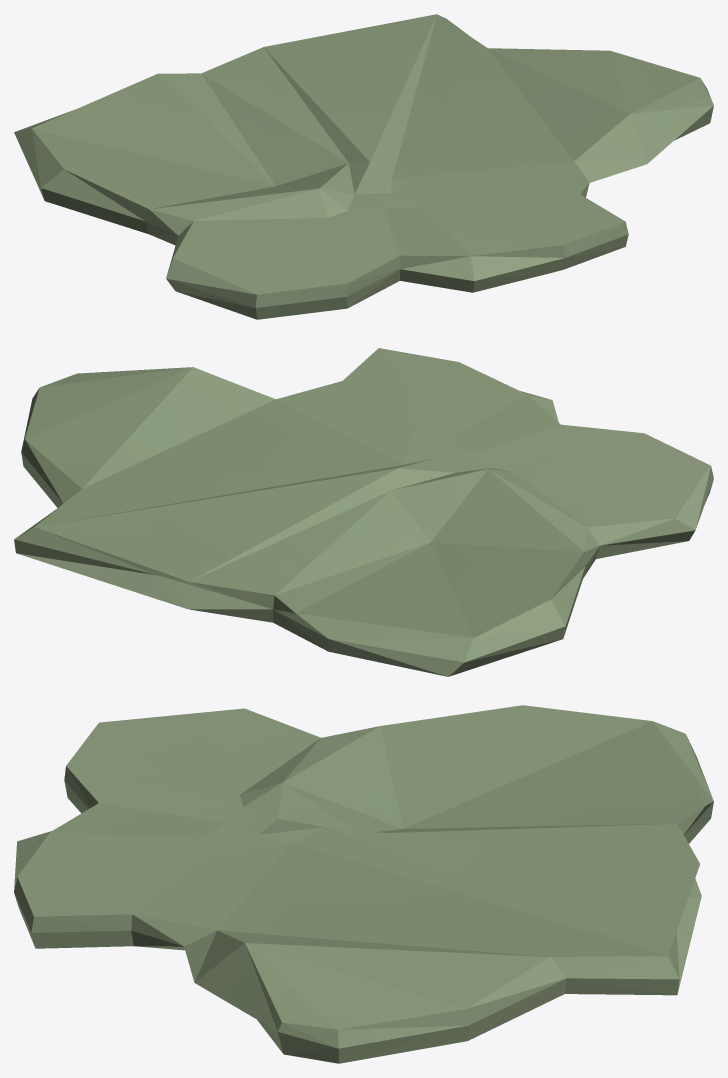
The model's file is grass_cluster_1.obj.
3 views of the same model, one above another, from view 1: azimuth 30°, elevation 25°; view 2: azimuth 150°, elevation 25°; view 3: azimuth 270°, elevation 25° (orthographic). The views are drawn at different scales.
Parts seen in each view (by area): view 1: grass_cluster_1_Mesh; view 2: grass_cluster_1_Mesh; view 3: grass_cluster_1_Mesh.
Boxes of the visible parts, x1=… form: grass_cluster_1_Mesh: x1=14, y1=14, x2=713, y2=319; grass_cluster_1_Mesh: x1=14, y1=348, x2=713, y2=676; grass_cluster_1_Mesh: x1=14, y1=705, x2=713, y2=1063.
Size of the model in its own units: 2.98 by 0.2842 by 2.51.
